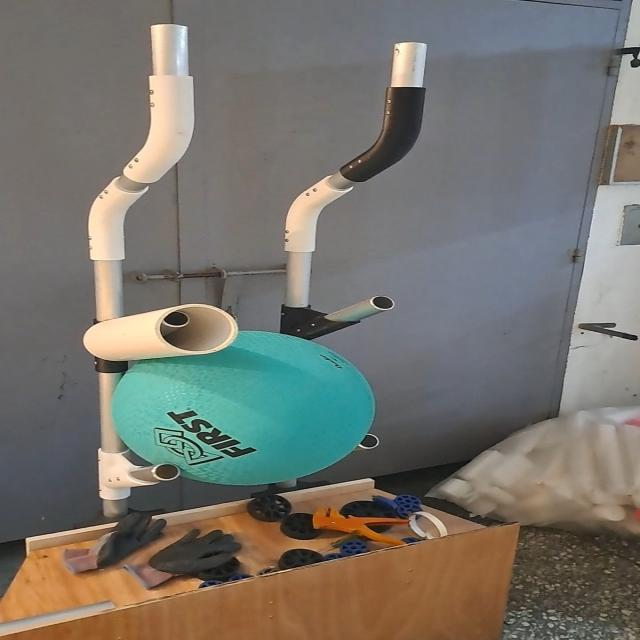ALGAE: (111, 327, 373, 485)
CORAL: (83, 301, 239, 368)
